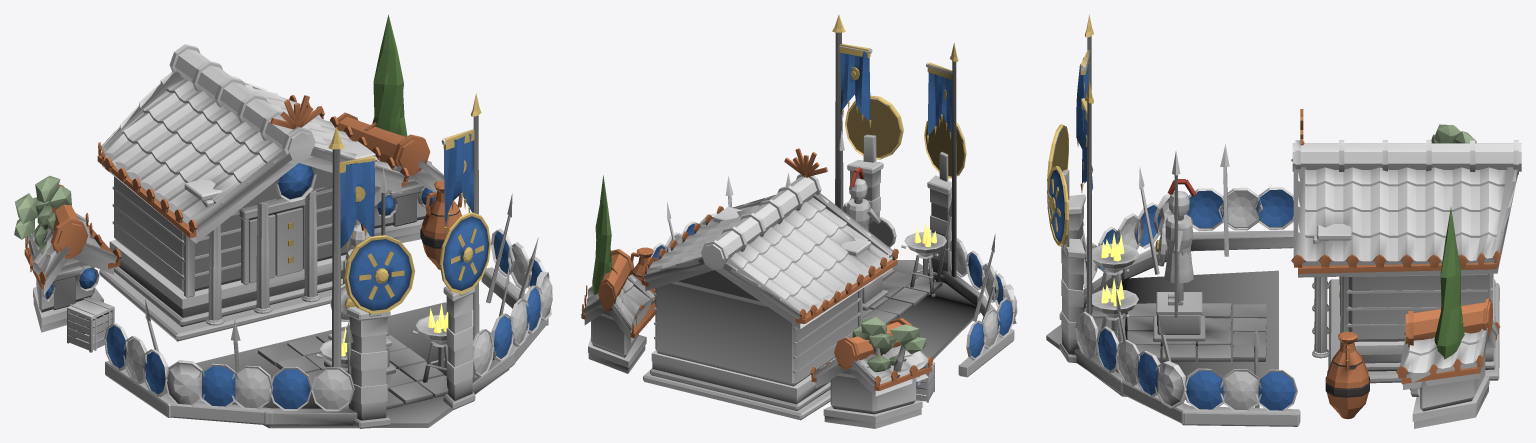
Rendered from shield-camp-l3.glb.
3 views of the same model, side by side, from view 1: azimuth 30°, elevation 25°; view 2: azimuth 150°, elevation 25°; view 3: azimuth 270°, elevation 25° (orthographic). The views are drawn at different scales.
Parts seen in each view (by area): view 1: shield-camp-l3; view 2: shield-camp-l3; view 3: shield-camp-l3.
Part boxes in pixels (x1=…): shield-camp-l3: x1=14, y1=14, x2=552, y2=428; shield-camp-l3: x1=581, y1=14, x2=1017, y2=428; shield-camp-l3: x1=1046, y1=14, x2=1521, y2=428.
Size of the model in its own units: 1.53 by 1.06 by 1.55.
